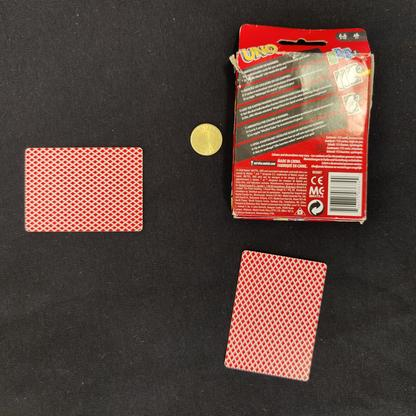card: (212, 238, 338, 398), (6, 136, 162, 242)
